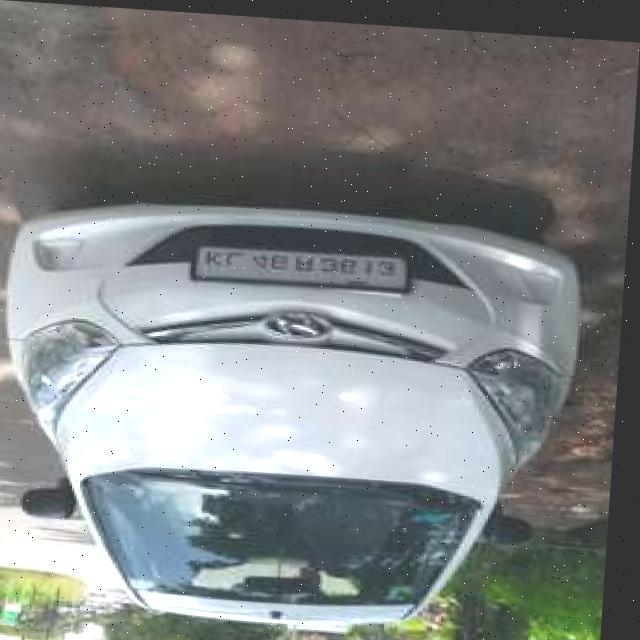plate: (193, 239, 417, 293)
